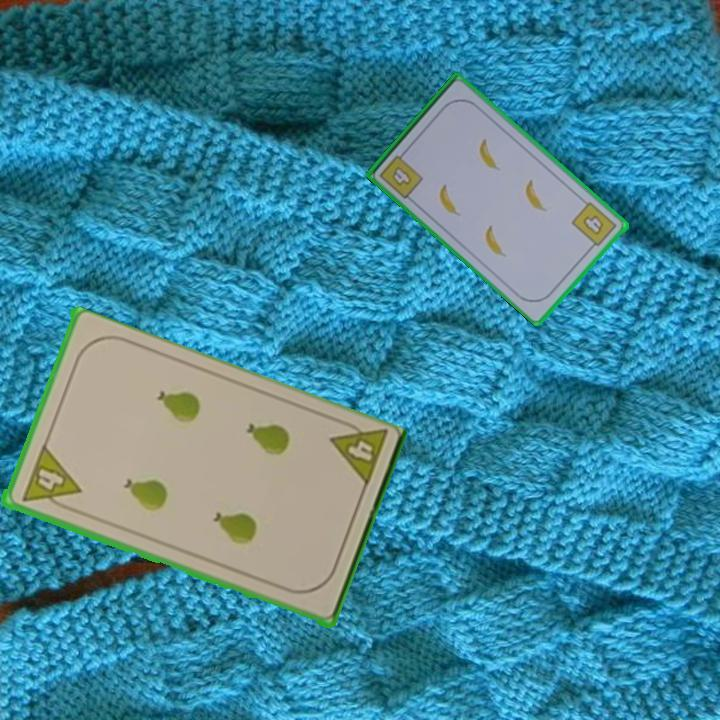4b: (568, 198, 620, 253), (388, 162, 415, 189)
4p: (325, 415, 391, 492), (18, 443, 83, 515)
